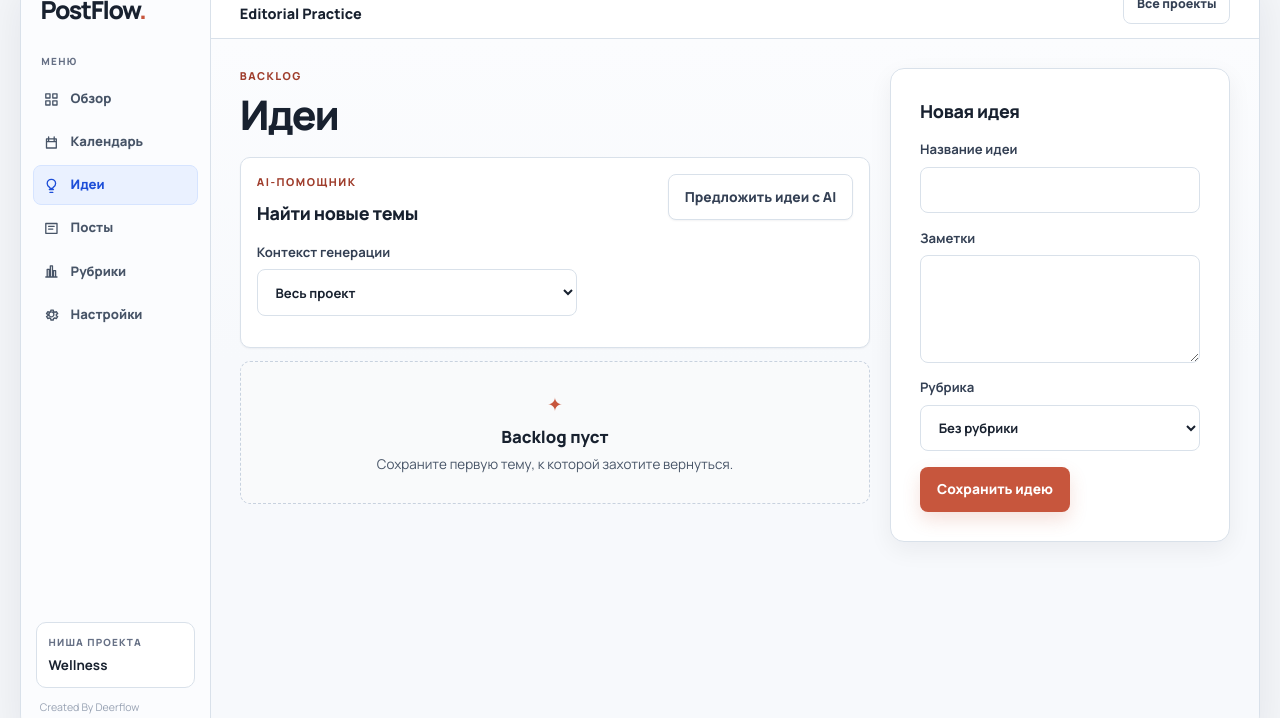
Test: AI ideas are generated for a pillar and only selected suggestions are saved
Step 1. Select "Practice" in the dropdown labelled "Контекст генерации" → (417, 293), box [257,269,577,316]
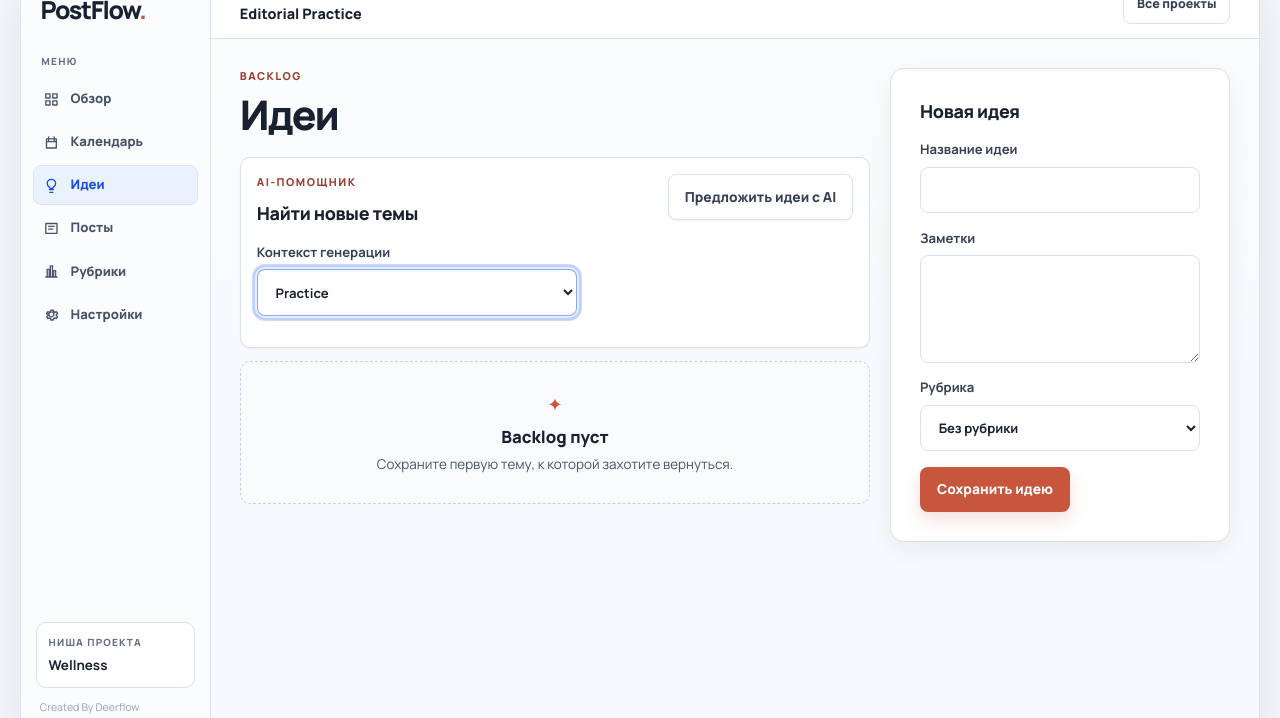
Step 2. Click the button "Предложить идеи с AI" → (760, 197), box [668,174,853,220]
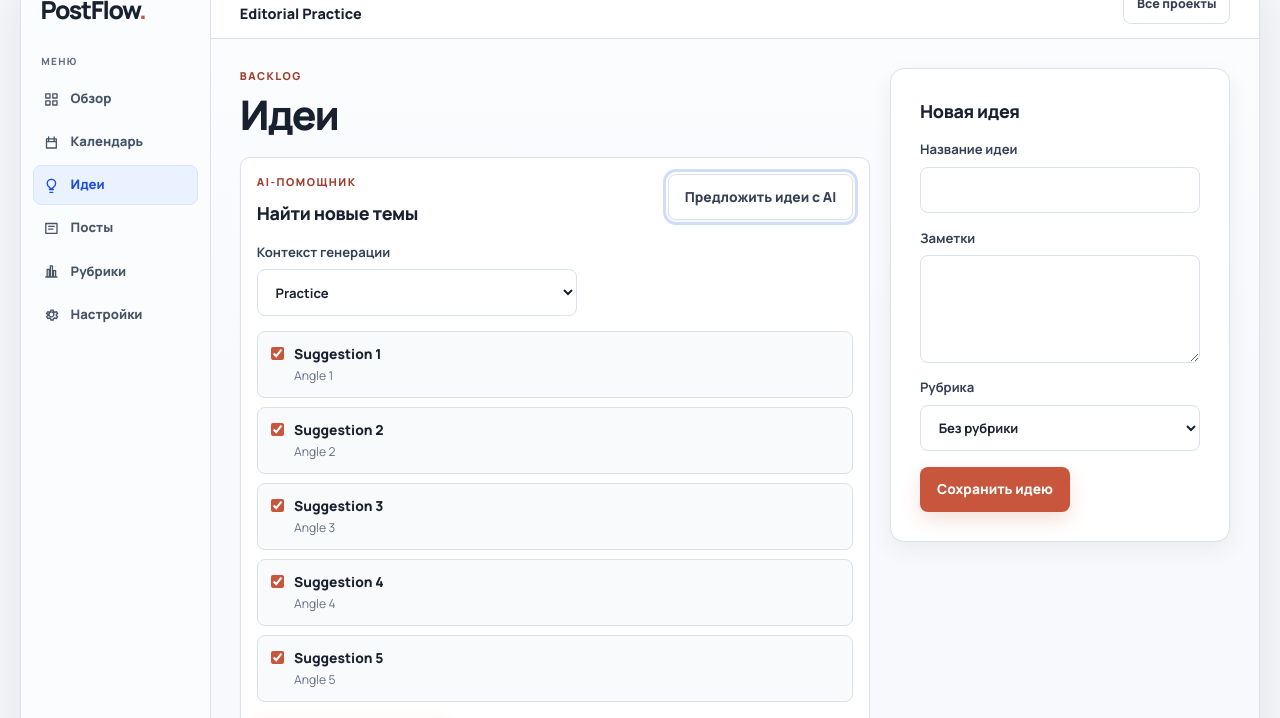
Now the text "Suggestion 1" is shown, box [294,344,382,364]
Now the number of checkboxes named "выбрать идею" is 5
Step 3. Click the checkbox named "выбрать идею suggestion 2" → (277, 430), box [271,423,284,436]
(page scrolled)
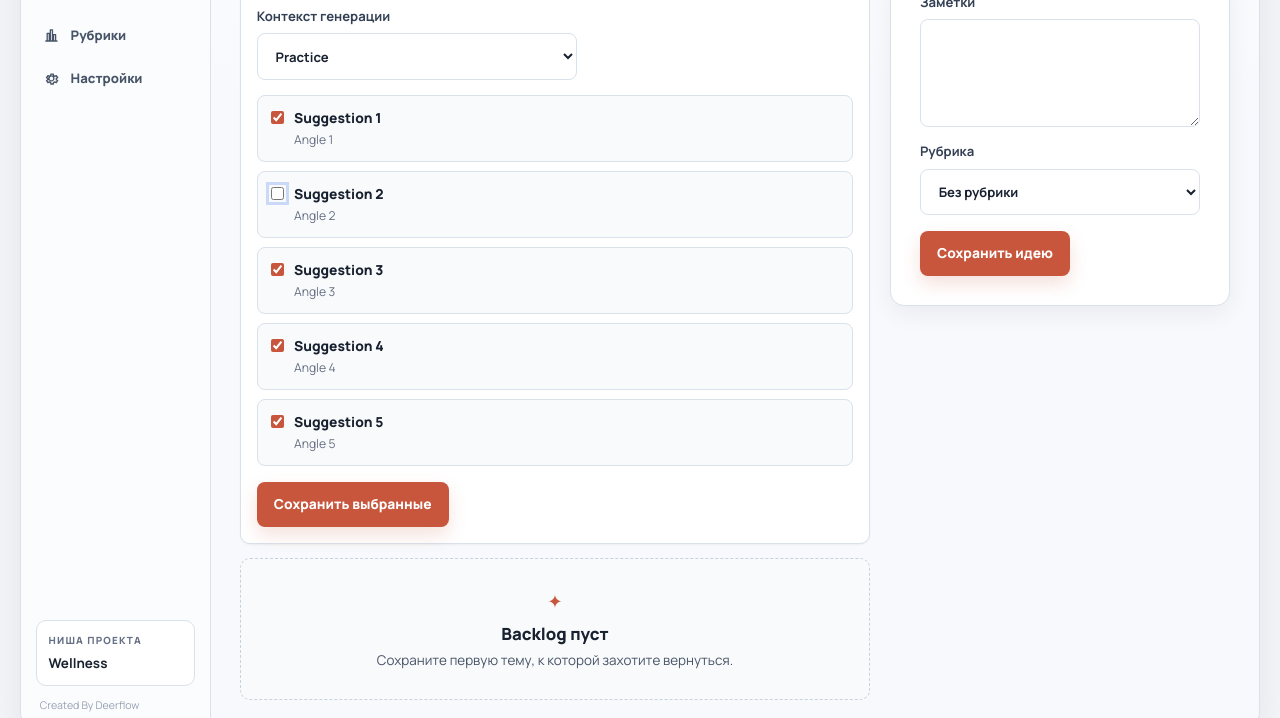
Step 4. Click the button "Сохранить выбранные" → (353, 505), box [257,482,449,528]
(page scrolled)
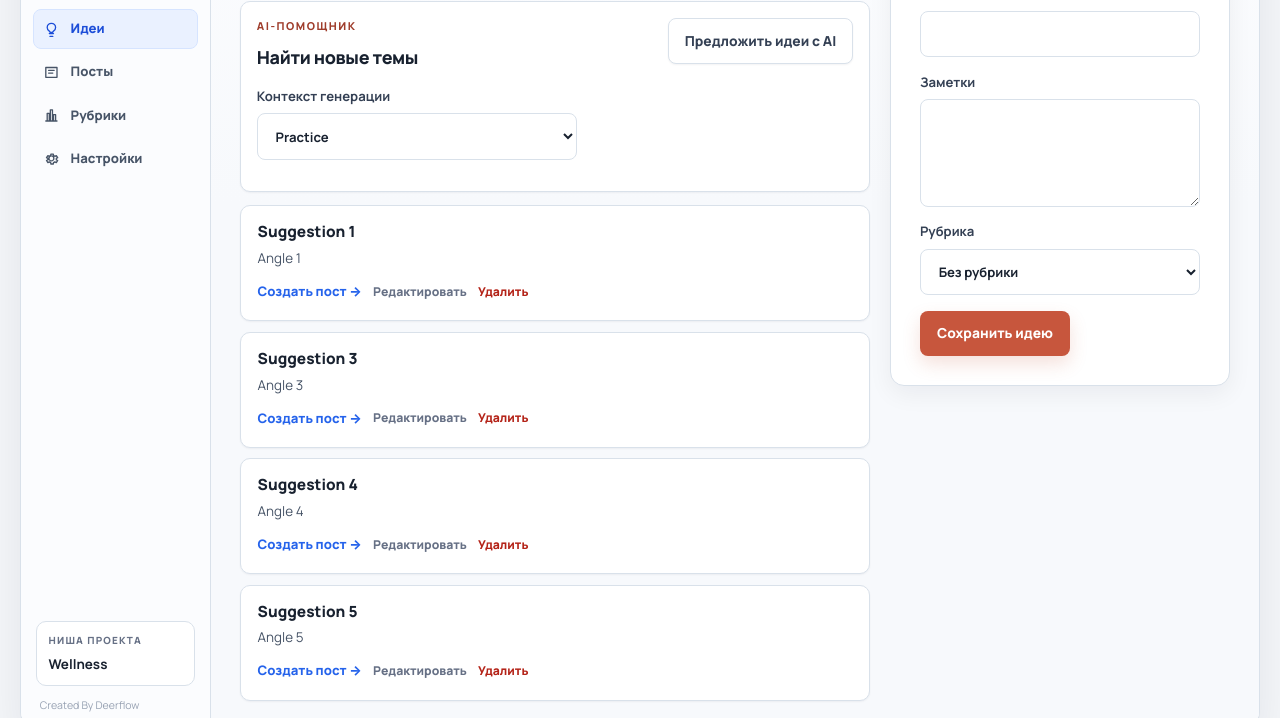
Now the heading "Suggestion 3" is shown, box [258,348,358,369]
Now the button "Сохранить выбранные" is gone
